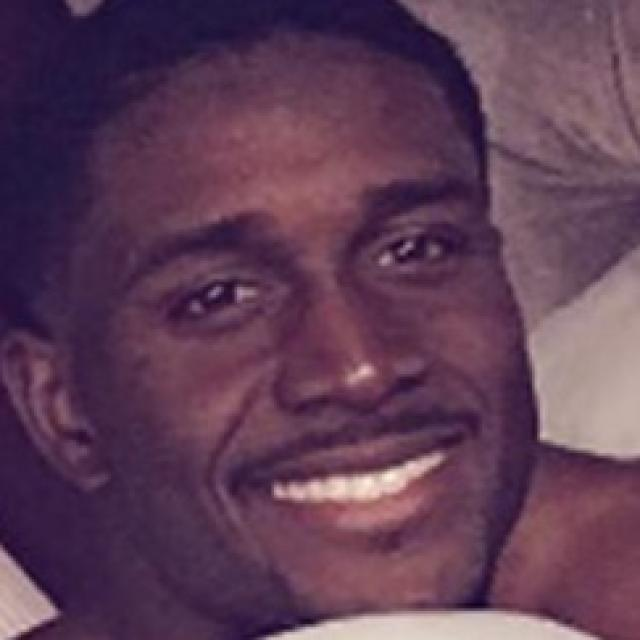Normal: (56, 31, 542, 632)
